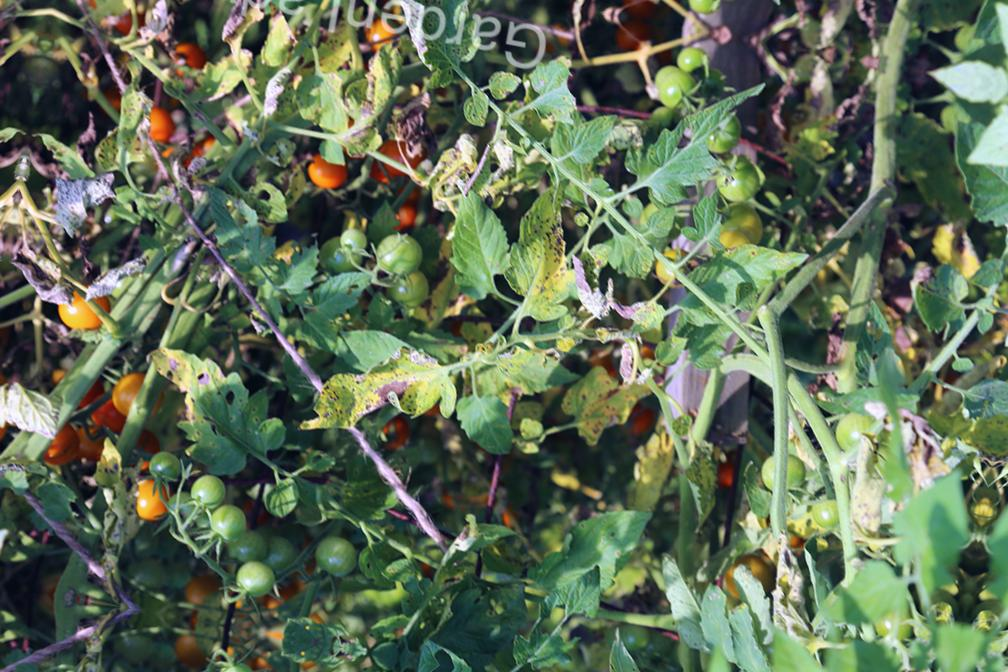Tomato Early blight leaf: (295, 326, 468, 457), (139, 346, 295, 480), (533, 492, 648, 607), (496, 183, 588, 324), (673, 229, 803, 309), (557, 364, 647, 446), (486, 344, 580, 402)
Tomato leaf: (436, 187, 523, 301)
